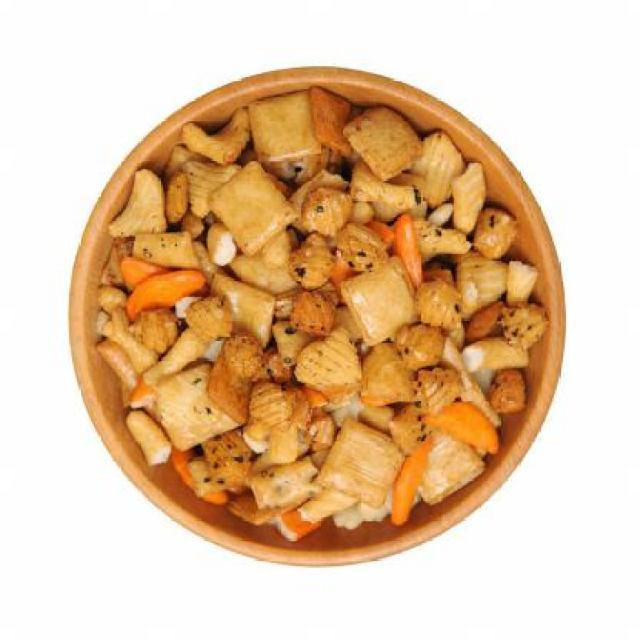Salatini packaged: (114, 132, 522, 542)
